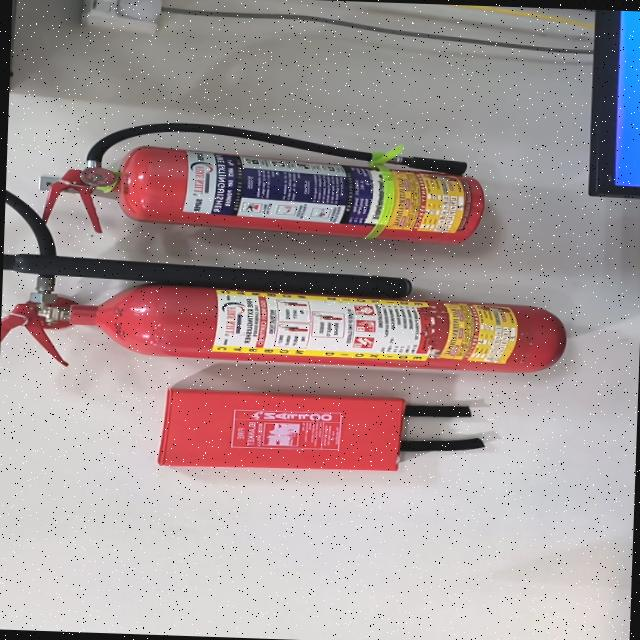Fire Extinguisher: (40, 285, 563, 372), (101, 146, 482, 244)
Monitor: (613, 10, 640, 186)
